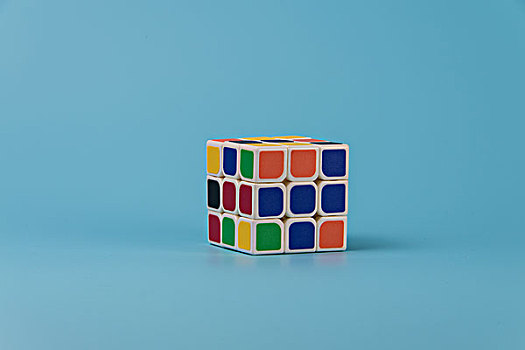cube: (206, 134, 350, 255)
